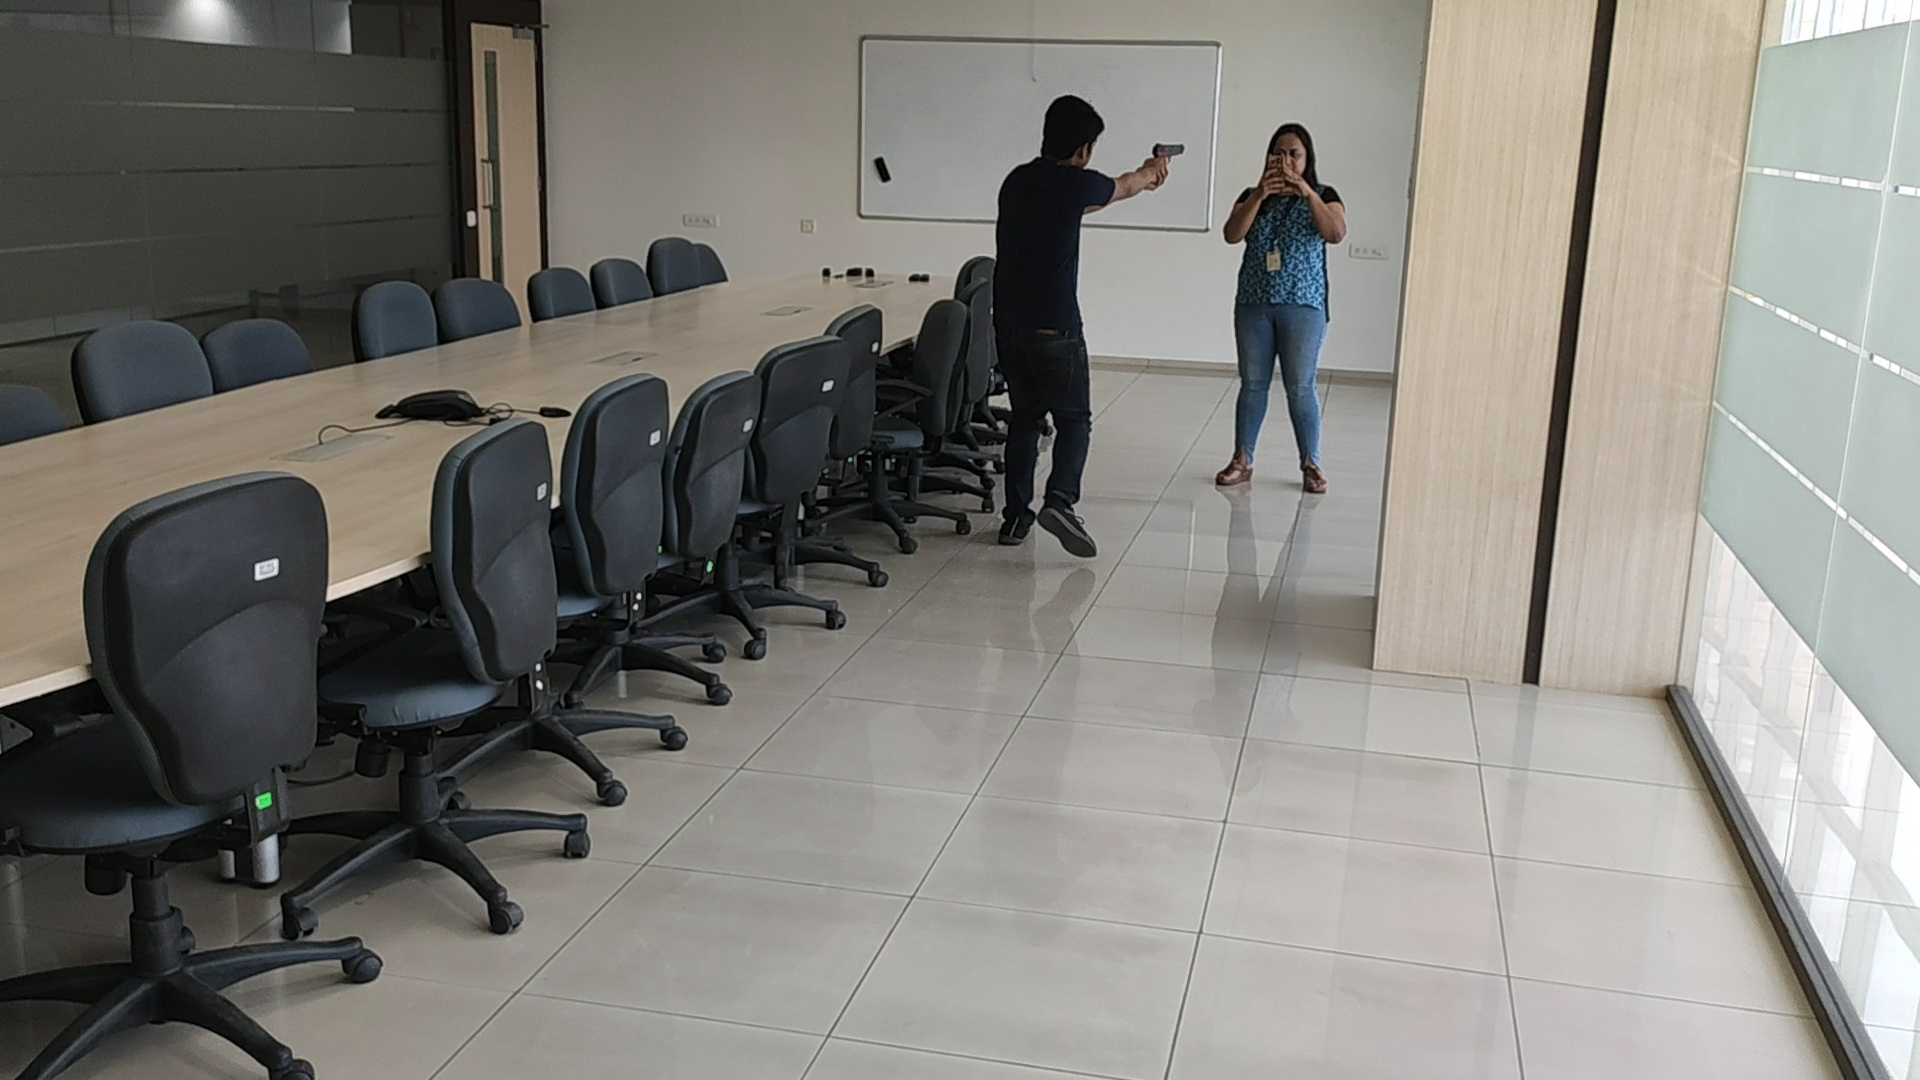gun: (1149, 138, 1189, 169)
